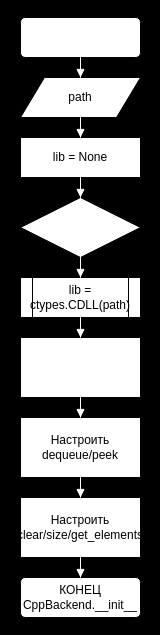
This 160x635 diagram has some shape labels left out. The centre of each missing label's shape, as x and y in pixels:
CppBackend.__init__ НАЧАЛО: (80,37)
Настроить типы lib_init/lib_add: (80,367)
файл библиотеки существует: (80,227)
